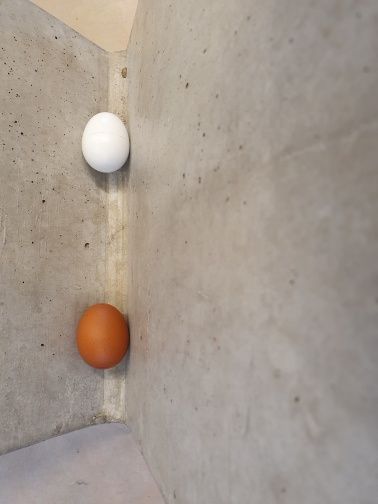egg: (78, 301, 127, 373), (82, 110, 128, 174)
